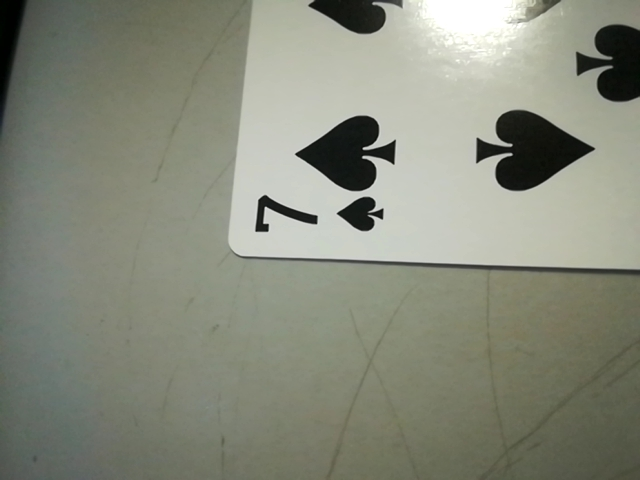ht 7: (238, 185, 390, 250)
